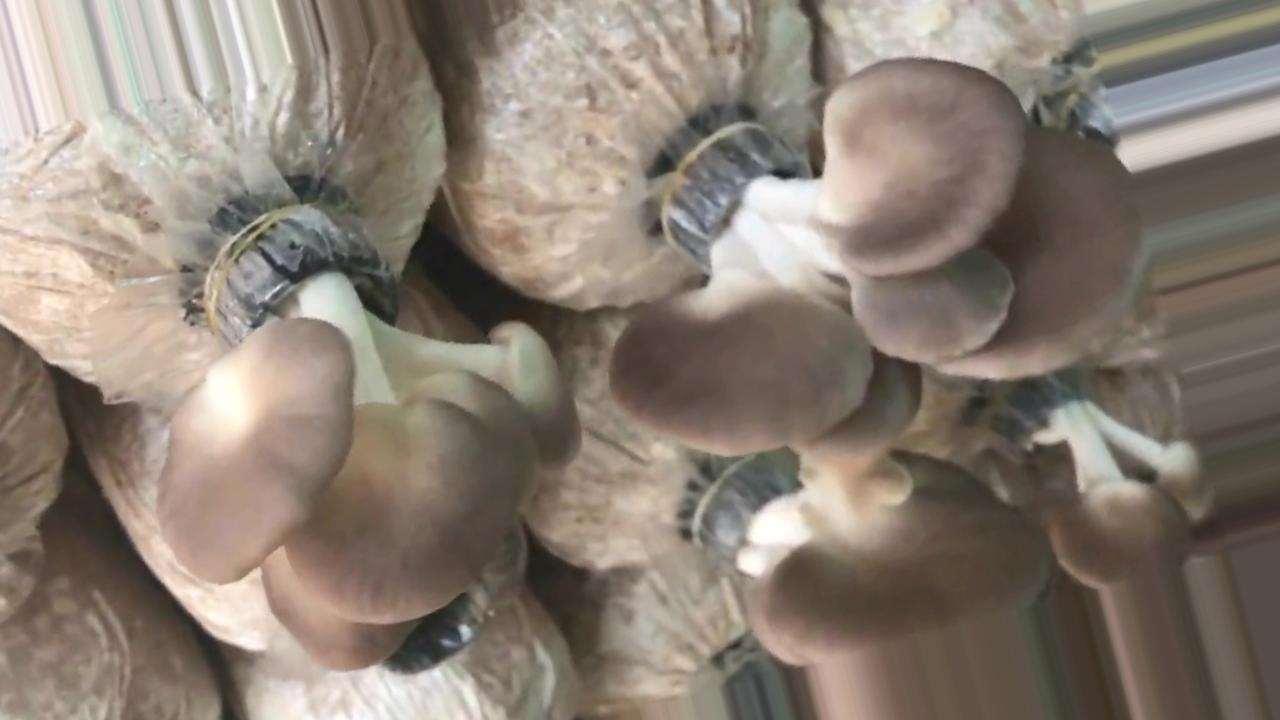nam: (610, 60, 1138, 459), (160, 213, 577, 672), (683, 454, 1052, 720), (1007, 381, 1213, 581)
